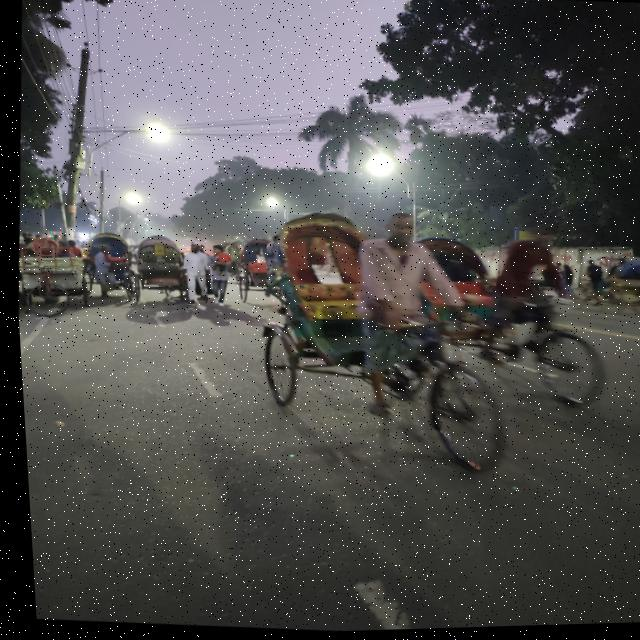rikshaw: (228, 191, 531, 493)
